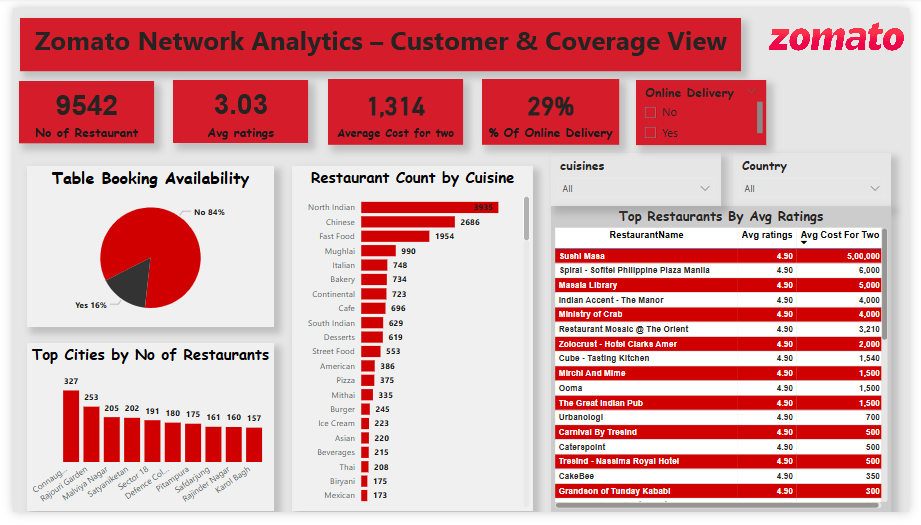

The page's visual inventory and layout, read from the dashboard file:
{"tool":"powerbi","page":{"name":"Page 1","canvas":[1280,720],"ordinal":0},"visuals":[{"type":"card","fields":{"Values":["Count(ZomatoData (1).RestaurantID)"]},"box":[8.6,103.7,192.9,88.6],"z":0},{"type":"slicer","fields":{"Values":["Country Code.City"]},"box":[1028.6,207.1,225.7,75.7],"z":1000},{"type":"tableEx","title":"Top Restaurants By Avg Ratings","fields":{"Values":["ZomatoData (1).RestaurantName","ZomatoData (1).Avg ratings","Avg(ZomatoData (1).Average_Cost_for_two)"]},"box":[768.6,282.9,485.7,437.1],"z":2000},{"type":"slicer","fields":{"Values":["ZomatoData (1).Has_Online_delivery"]},"box":[890,102.9,185.7,92.9],"z":3000},{"type":"clusteredColumnChart","title":"Top Cities by No of Restaurants","fields":{"Y":["CountNonNull(ZomatoData (1).RestaurantID)"],"Category":["ZomatoData (1).Locality"]},"box":[20,478.6,352.9,240],"z":4000},{"type":"pieChart","title":"Table Booking Availability","fields":{"Category":["ZomatoData (1).Has_Table_booking"],"Y":["CountNonNull(ZomatoData (1).Has_Table_booking)"]},"box":[20,225.7,352.9,230],"z":5000},{"type":"clusteredBarChart","title":"Restaurant Count by Cuisine","fields":{"Category":["ZomatoData (1).cuisines"],"Y":["CountNonNull(ZomatoData (1).RestaurantID)"]},"box":[398.6,225.7,344.3,492.9],"z":8000},{"type":"slicer","fields":{"Values":["ZomatoData (1).cuisines"]},"box":[768.6,207.1,242.9,75.7],"z":9000},{"type":"textbox","title":"Zomato Platform Analytics – Customer & Coverage View","box":[10,13.8,1030,76.2],"z":10000},{"type":"card","fields":{"Values":["ZomatoData (1).Avg ratings"]},"box":[229,103,192.9,90],"z":11000},{"type":"card","fields":{"Values":["ZomatoData (1).% of online delivery"]},"box":[670,100.9,195.7,94.3],"z":12000},{"type":"card","fields":{"Values":["Avg(ZomatoData (1).Average_Cost_for_two)"]},"box":[449.5,100.9,192.9,94.3],"z":13000},{"type":"image","box":[1072.9,0,207.1,81.4],"z":14000}]}

Visuals, with their boxes in screenshot pixels (x1, y1, x2, y2), scaled from the page's 1280x720 canvas onto the 921x525 screenshot:
card - Count(ZomatoData (1).RestaurantID): bbox=(6, 76, 145, 140)
slicer - Country Code.City: bbox=(740, 151, 903, 206)
"Top Restaurants By Avg Ratings" tableEx: bbox=(553, 206, 903, 524)
slicer - ZomatoData (1).Has_Online_delivery: bbox=(640, 75, 774, 143)
"Top Cities by No of Restaurants" clusteredColumnChart: bbox=(14, 349, 268, 524)
"Table Booking Availability" pieChart: bbox=(14, 165, 268, 332)
"Restaurant Count by Cuisine" clusteredBarChart: bbox=(287, 165, 535, 524)
slicer - ZomatoData (1).cuisines: bbox=(553, 151, 728, 206)
"Zomato Platform Analytics – Customer & Coverage View" textbox: bbox=(7, 10, 748, 66)
card - ZomatoData (1).Avg ratings: bbox=(165, 75, 304, 141)
card - ZomatoData (1).% of online delivery: bbox=(482, 74, 623, 142)
card - Avg(ZomatoData (1).Average_Cost_for_two): bbox=(323, 74, 462, 142)
image: bbox=(772, 0, 920, 59)
